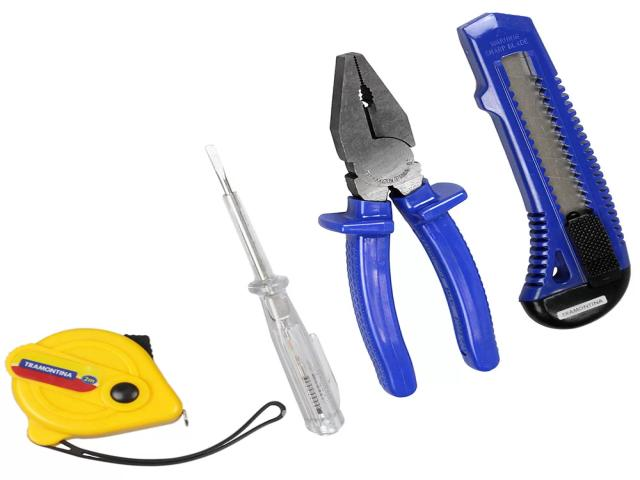Pliers: (319, 52, 499, 397)
Screwdriver: (206, 145, 344, 435)
Tape measure: (5, 329, 285, 465)
Utility knife: (458, 13, 630, 329)
